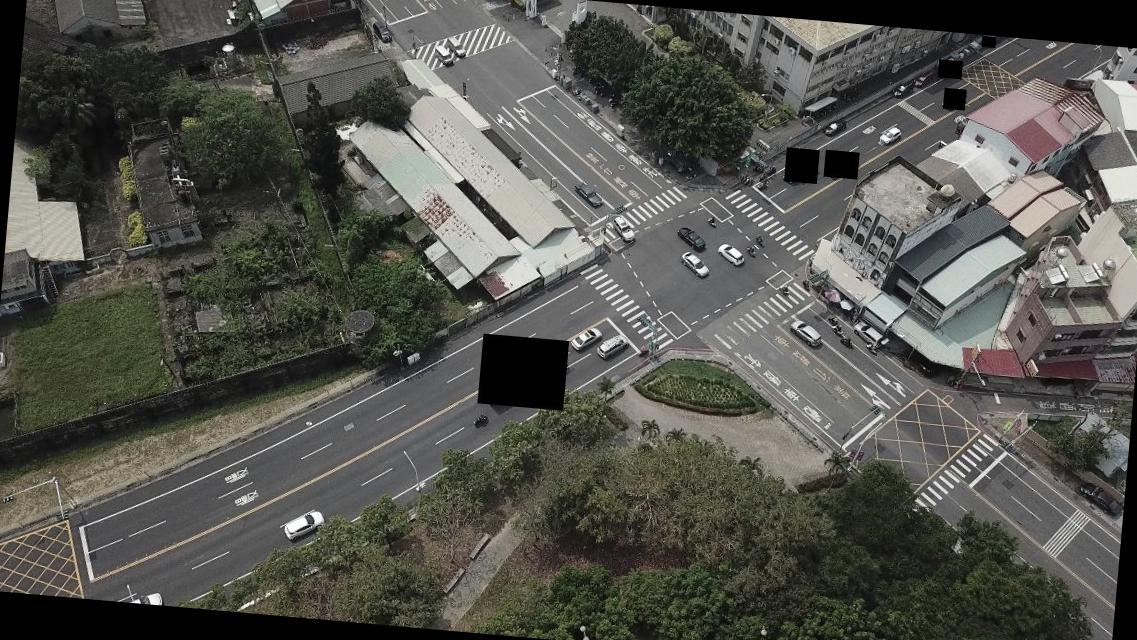vehicle: (1076, 480, 1124, 520), (280, 508, 326, 544), (851, 320, 887, 348), (594, 332, 628, 361), (790, 320, 822, 347), (678, 250, 708, 278), (570, 324, 600, 350), (674, 226, 706, 250), (570, 182, 601, 206), (609, 215, 634, 242), (715, 244, 744, 267), (132, 590, 164, 606), (911, 68, 934, 89), (431, 44, 452, 67), (822, 120, 846, 140), (369, 20, 390, 42), (444, 35, 466, 56), (890, 80, 912, 100), (879, 126, 902, 144)
